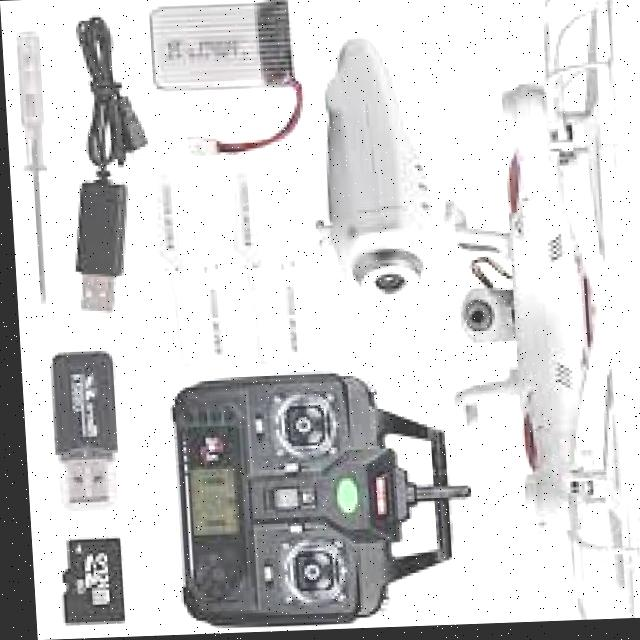drone: (416, 0, 640, 628)
